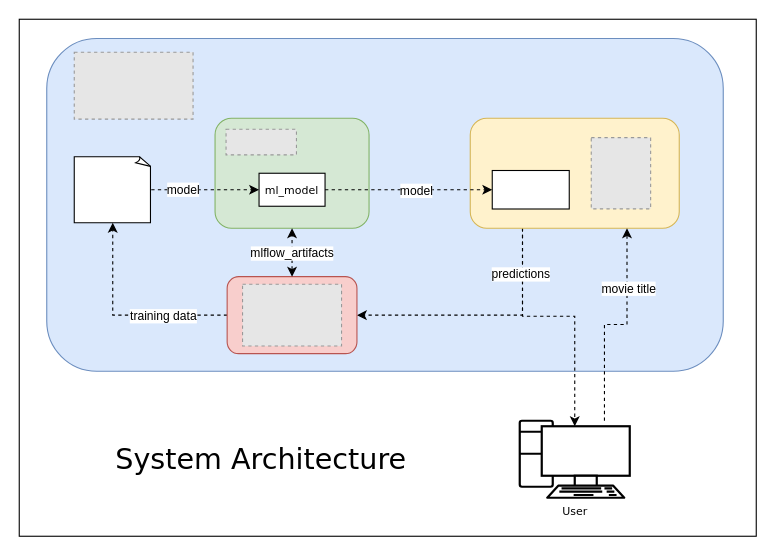
The diagram is 776 pixels wide and 556 high, and some of its shapes have lost their labels. Grey dashed boxes stand in for pictures. The shapes that lost their labels are listed below. From the top down, each one's centre as x and y in pixels, then its label:
At point (112, 189): "train_ model.py".
At point (530, 189): "bechdel test predictor".
